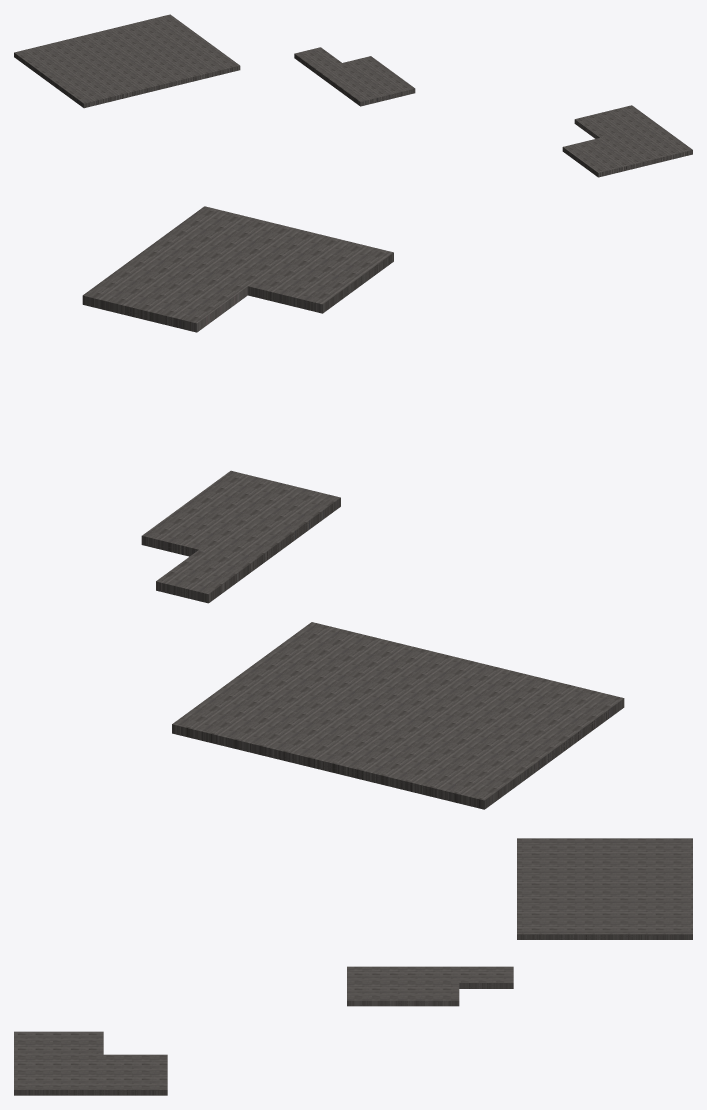
Rendered from 1989_bathroom_Floor_CastineCovePlus7WhitefillOak_.gltf.
3 renders of one model, top to bottom at view 1: azimuth 30°, elevation 25°; view 2: azimuth 150°, elevation 25°; view 3: azimuth 270°, elevation 25°, orthographic. The views are drawn at different scales.
Visible parts, largest first — view 1: Floors_castine_cove_plus_whitefill_oak; view 2: Floors_castine_cove_plus_whitefill_oak; view 3: Floors_castine_cove_plus_whitefill_oak.
Boxes of the visible parts, x1,y1,x2,y2 form: Floors_castine_cove_plus_whitefill_oak: (14, 14, 692, 177); Floors_castine_cove_plus_whitefill_oak: (82, 206, 624, 809); Floors_castine_cove_plus_whitefill_oak: (14, 838, 692, 1095).
Bounding box in the file's own units: 18.6 × 0.2 × 21.2.
1 material, 1 textured.
